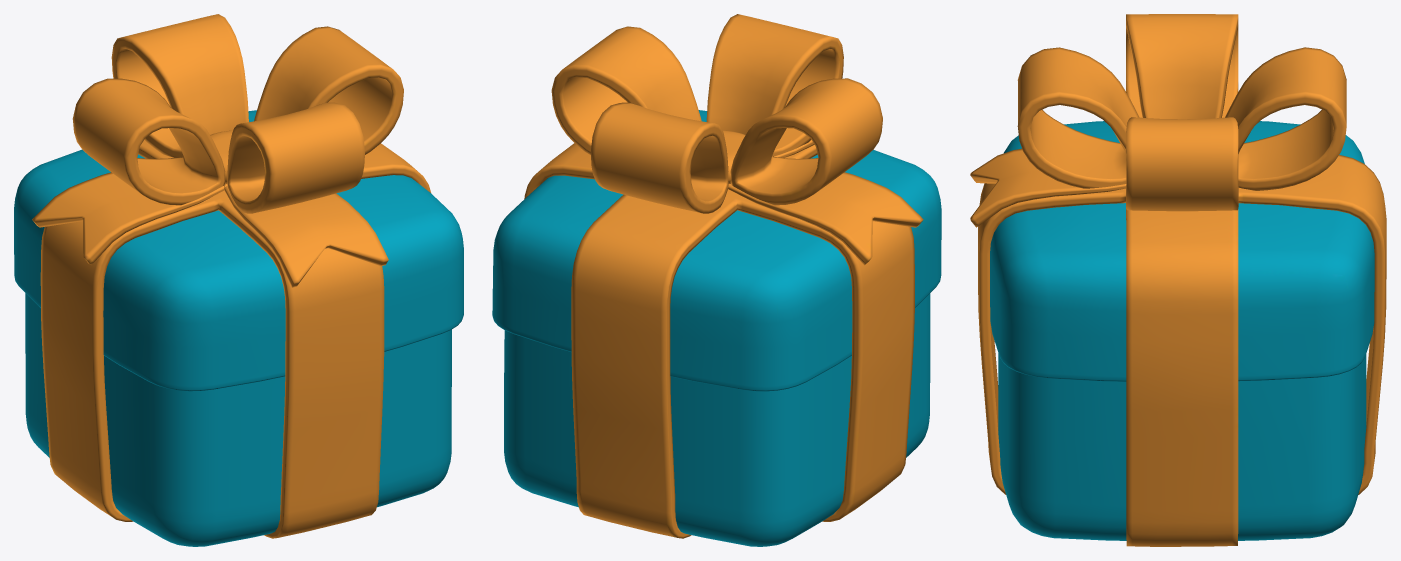
Rendered from gift.glb.
3 views of the same model, side by side, from view 1: azimuth 30°, elevation 25°; view 2: azimuth 150°, elevation 25°; view 3: azimuth 270°, elevation 25° (orthographic). The views are drawn at different scales.
Visible parts, largest first — view 1: gbwrs_ribbons, gbwrs_lid, gbwrs_body; view 2: gbwrs_ribbons, gbwrs_lid, gbwrs_body; view 3: gbwrs_ribbons, gbwrs_lid, gbwrs_body.
Boxes of the visible parts, x1,y1,x2,y2 form: gbwrs_ribbons: [32, 14, 430, 538]; gbwrs_lid: [14, 110, 463, 391]; gbwrs_body: [25, 293, 451, 546]; gbwrs_ribbons: [524, 14, 923, 538]; gbwrs_lid: [492, 110, 941, 391]; gbwrs_body: [504, 293, 930, 546]; gbwrs_ribbons: [970, 14, 1386, 546]; gbwrs_lid: [990, 121, 1374, 381]; gbwrs_body: [998, 353, 1366, 540].
Bounding box in the file's own units: 0.1098 × 0.1188 × 0.1097.
Materials: 1 (1 with a texture image).
